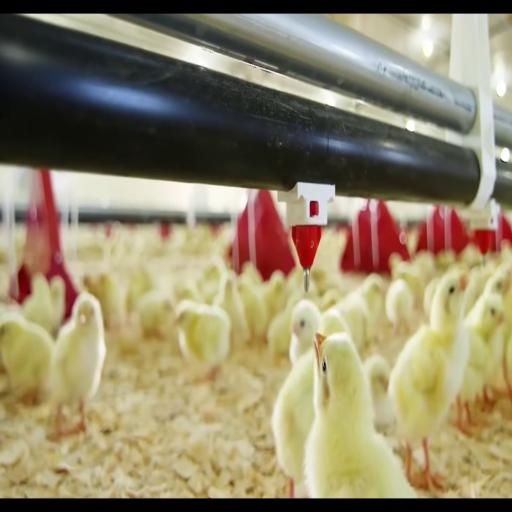chick: (305, 334, 416, 498), (389, 271, 469, 488), (51, 293, 106, 439), (456, 293, 504, 434), (272, 348, 314, 498), (0, 313, 53, 404), (176, 301, 231, 379), (483, 266, 510, 408), (213, 271, 250, 346), (364, 355, 394, 429), (83, 273, 122, 329), (290, 300, 321, 365), (22, 273, 55, 334), (267, 298, 298, 362), (239, 276, 268, 342), (336, 293, 369, 349), (138, 290, 173, 338), (386, 279, 414, 336), (358, 274, 385, 327), (392, 262, 424, 305), (126, 267, 154, 314), (199, 256, 226, 303), (263, 271, 285, 321), (465, 266, 486, 314), (318, 308, 351, 338), (50, 276, 65, 336), (413, 251, 436, 285), (173, 280, 203, 303), (424, 278, 440, 318), (458, 243, 482, 267), (319, 288, 341, 312), (286, 266, 303, 297), (242, 262, 262, 285), (436, 250, 456, 271), (389, 253, 403, 276), (499, 240, 511, 262)
